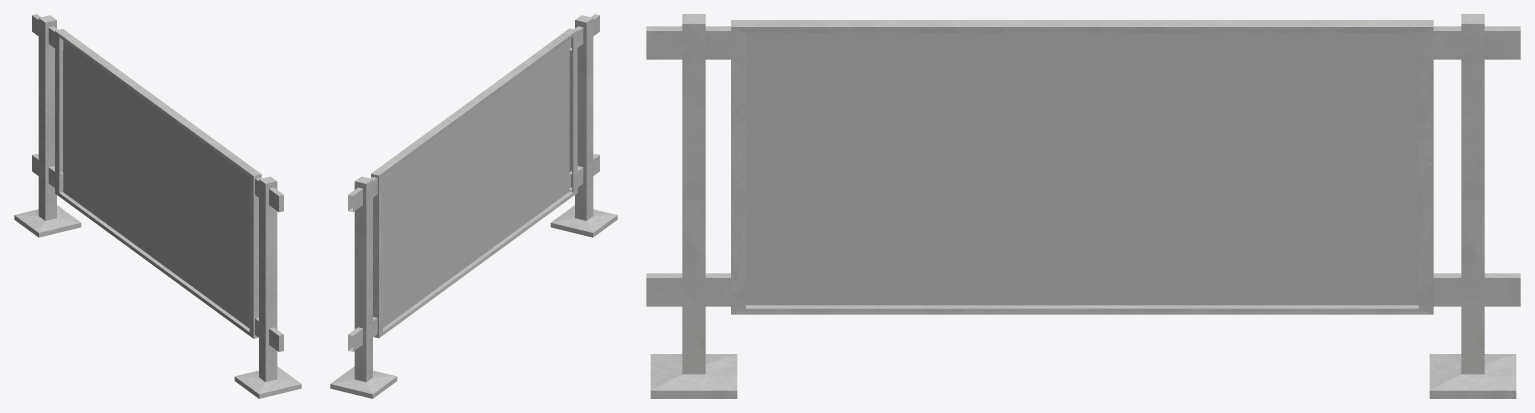
File: WireFence.fbx
3 renders of one model, left to right at view 1: azimuth 30°, elevation 25°; view 2: azimuth 150°, elevation 25°; view 3: azimuth 270°, elevation 25°, orthographic. The views are drawn at different scales.
Parts seen in each view (by area): view 1: WireFenceCenter, WireFenceBase; view 2: WireFenceCenter, WireFenceBase; view 3: WireFenceCenter, WireFenceBase.
Part boxes in pixels (bbox=[...]): WireFenceCenter: bbox=[55, 29, 261, 338]; WireFenceBase: bbox=[14, 14, 301, 398]; WireFenceCenter: bbox=[371, 28, 577, 338]; WireFenceBase: bbox=[330, 14, 617, 398]; WireFenceCenter: bbox=[731, 20, 1433, 314]; WireFenceBase: bbox=[646, 14, 1520, 398].
Size of the model in its own units: 308 by 1430 by 3105.
